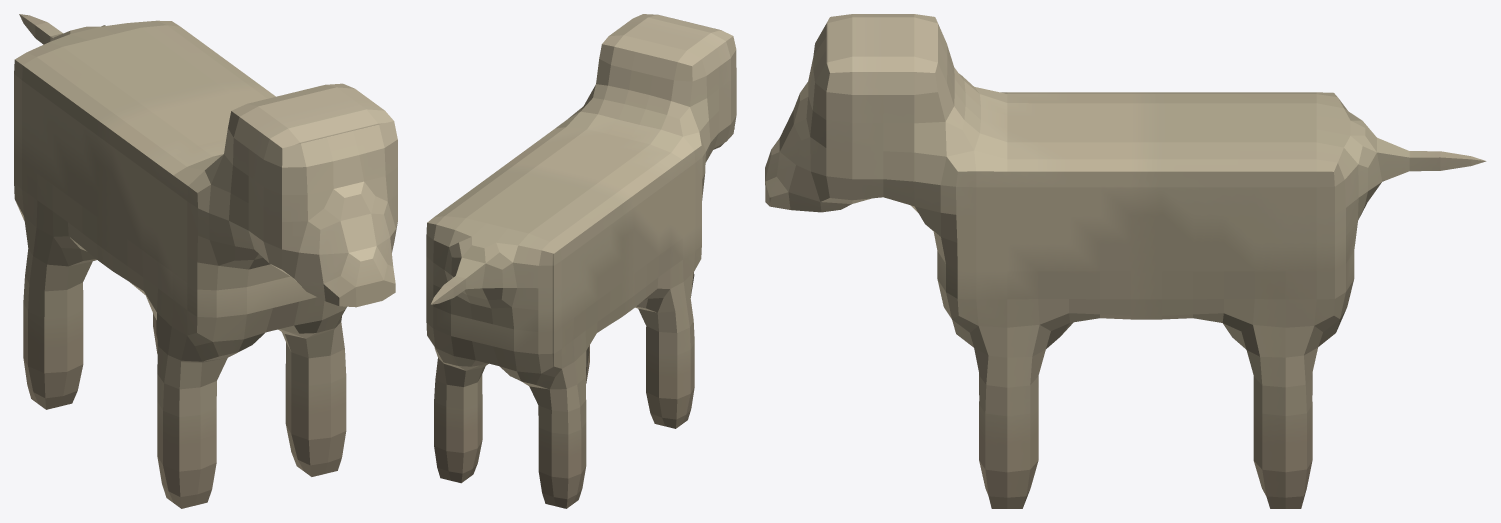
File: ancientFox.glb
3 views of the same model, side by side, from view 1: azimuth 30°, elevation 25°; view 2: azimuth 150°, elevation 25°; view 3: azimuth 270°, elevation 25° (orthographic). The views are drawn at different scales.
Parts seen in each view (by area): view 1: geometry_0; view 2: geometry_0; view 3: geometry_0.
Part boxes in pixels (<box>): geometry_0: <box>14,14,397,508</box>; geometry_0: <box>426,14,736,508</box>; geometry_0: <box>765,14,1486,508</box>.
Bounding box in the file's own units: 0.4437 × 1 × 1.51.
1 material, 1 textured.
